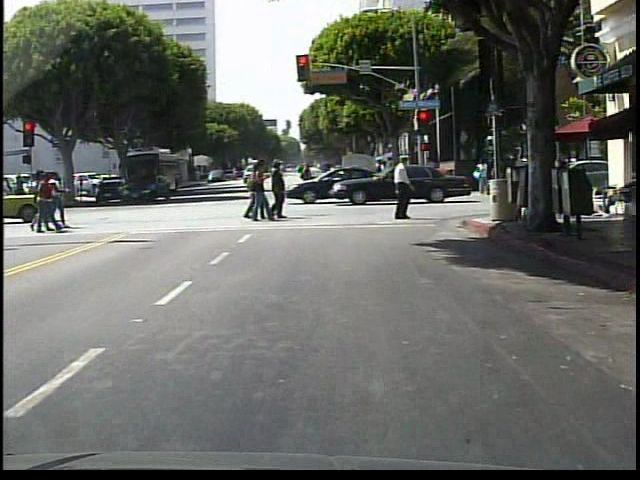person: (379, 150, 422, 227)
